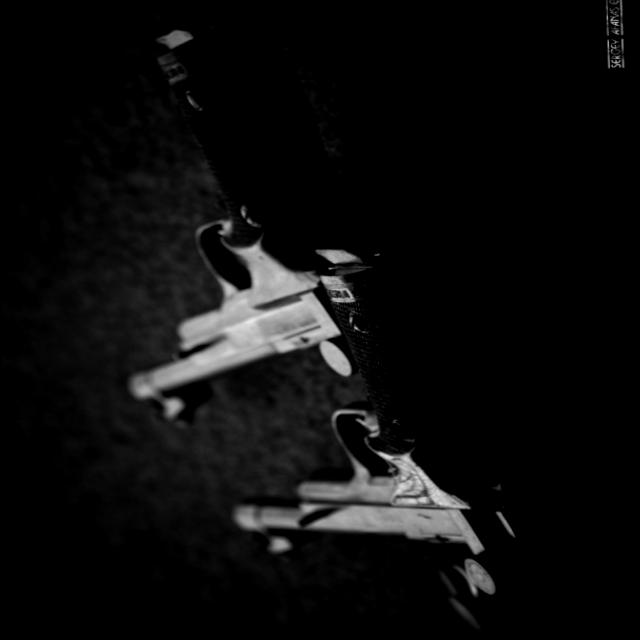handgun: (95, 15, 410, 419), (222, 246, 526, 610)
